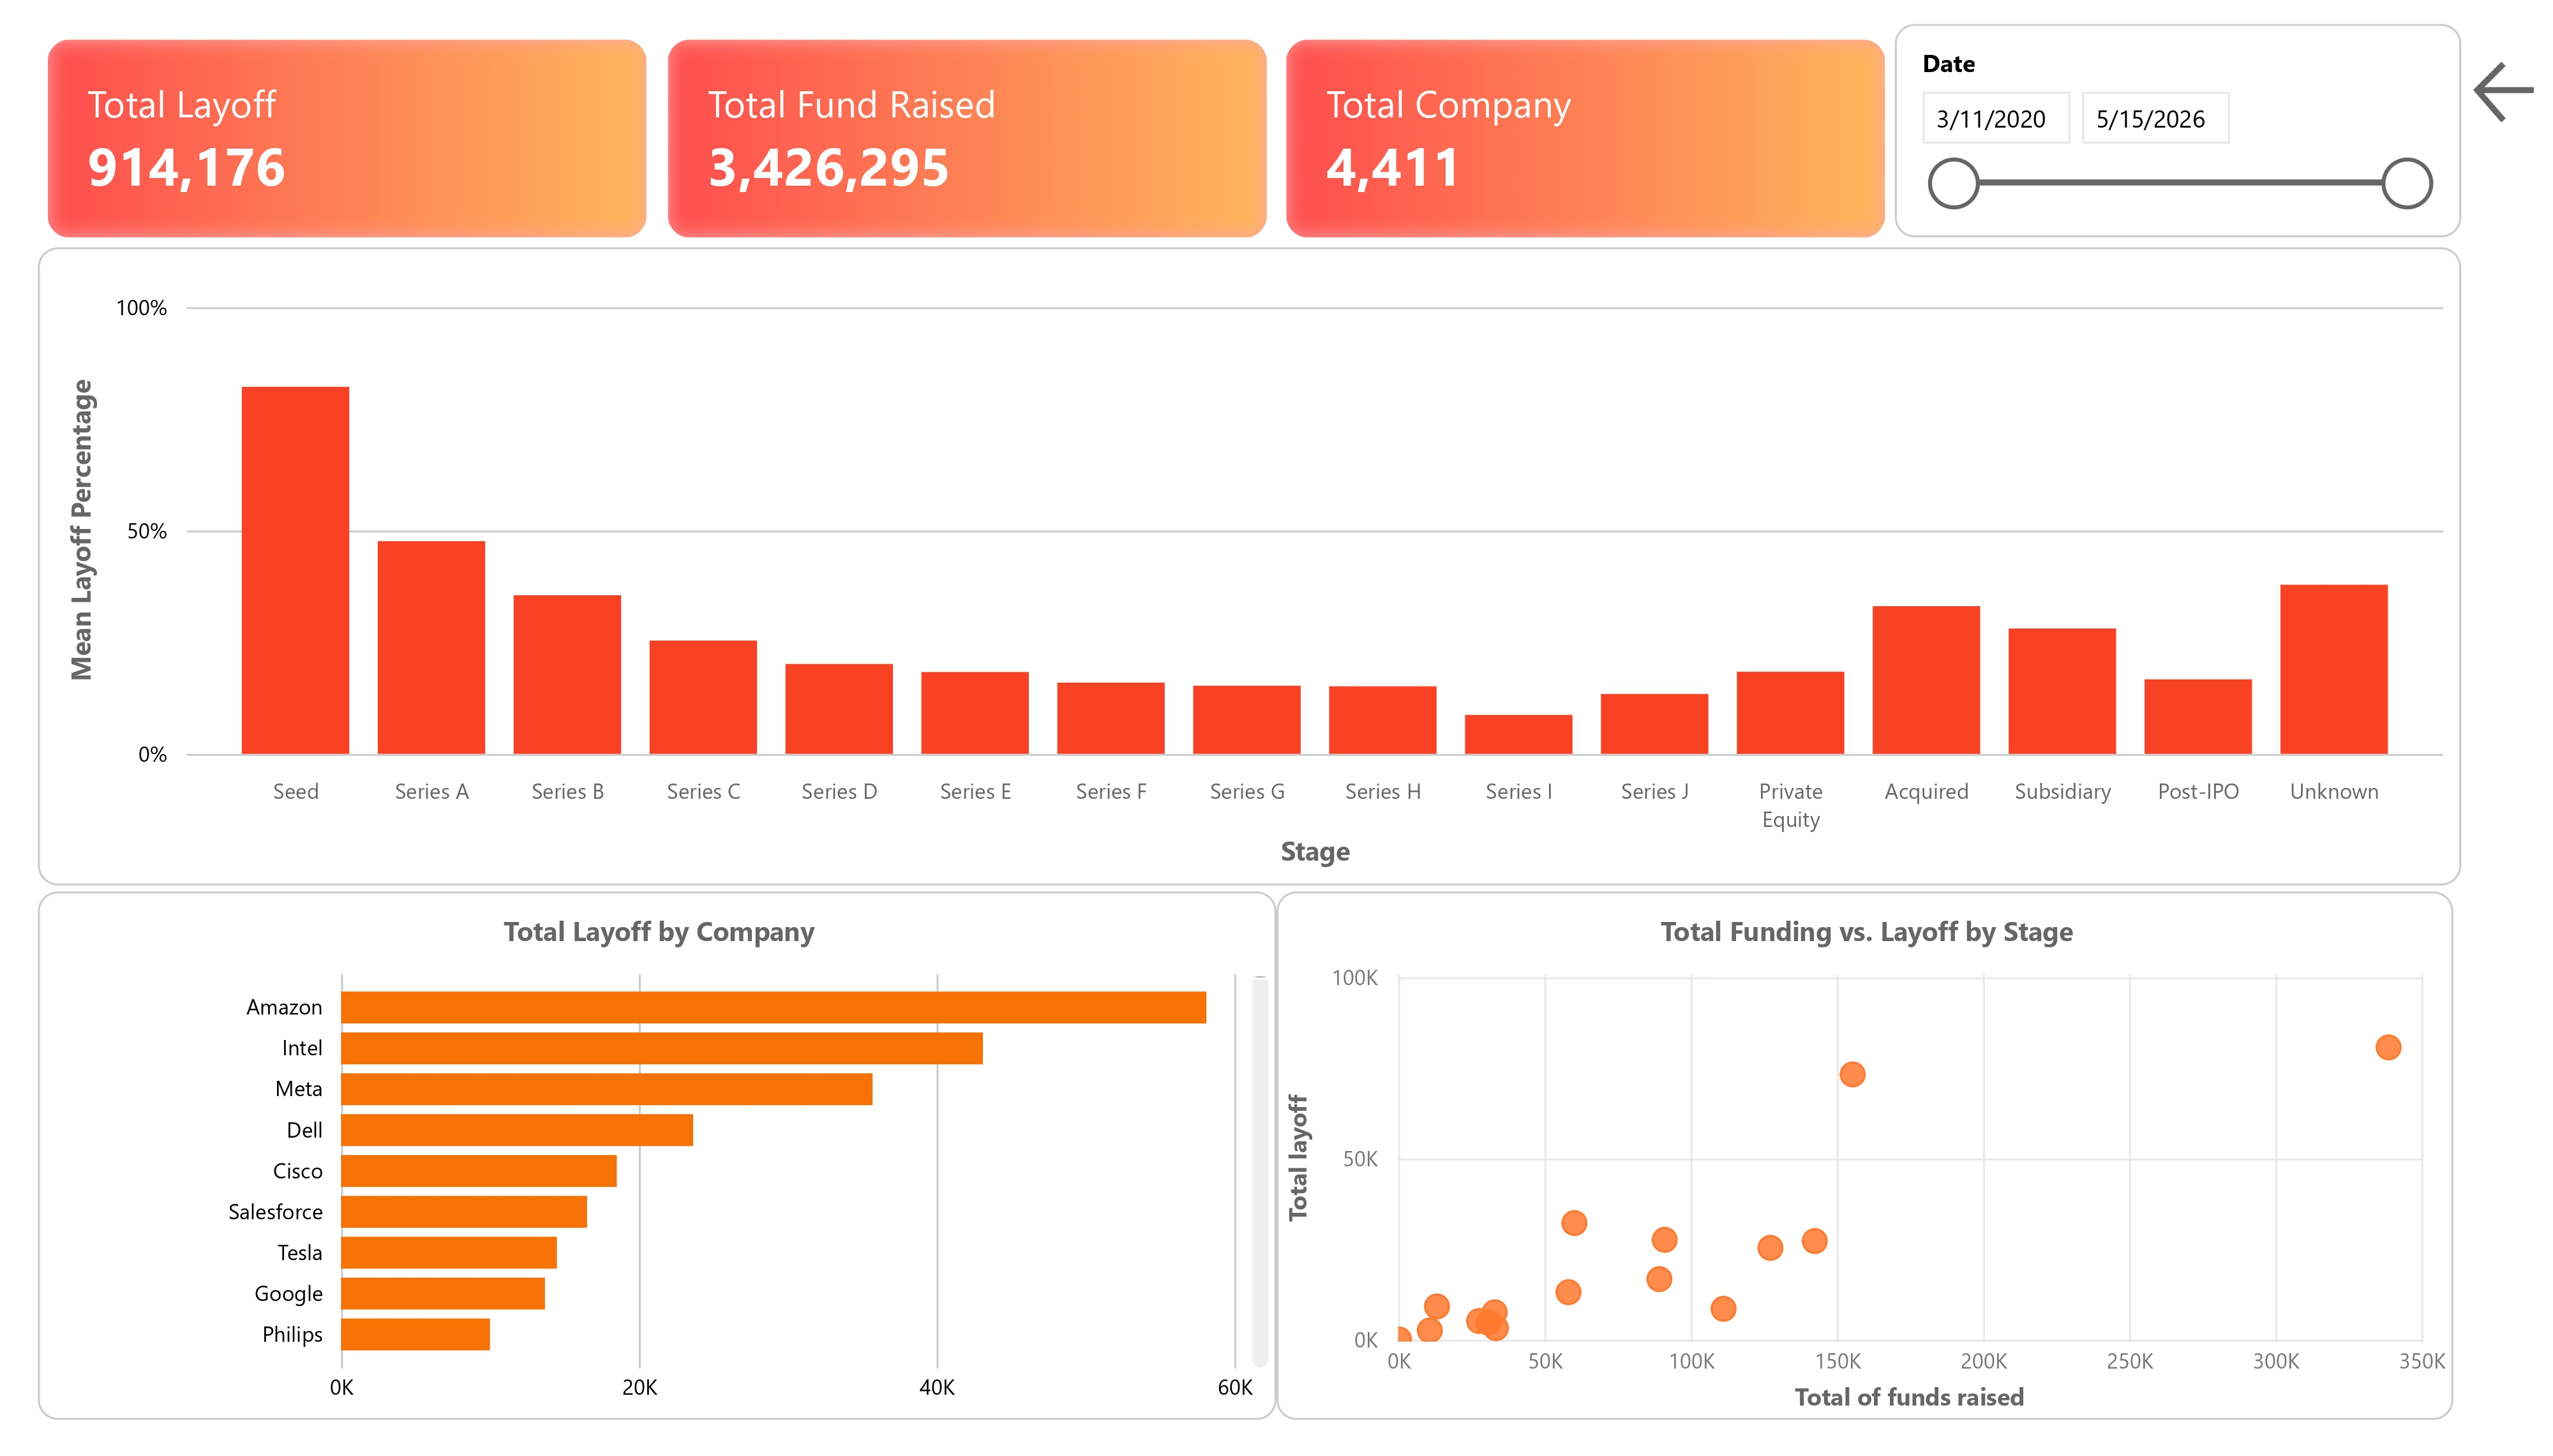

What the dashboard file says about the page in this screenshot:
{"tool":"powerbi","page":{"name":"Page 2","canvas":[1280,720],"ordinal":1},"visuals":[{"type":"lineStackedColumnComboChart","title":"Mean layoff percentage by Funding Stage","fields":{"Y":["Avg(layoffs.percentage_laid_off)"],"Category":["layoffs.stage"]},"box":[17.8,153.3,1045,315.6],"z":0},{"type":"cardVisual","fields":{"Data":["layoffs.Total Company"]},"box":[638,45,314,108],"z":1000},{"type":"cardVisual","fields":{"Data":["layoffs.Total Layoff"]},"box":[18,45,314,108],"z":2000},{"type":"cardVisual","fields":{"Data":["layoffs.Total Fund Raised"]},"box":[326,45,314,108],"z":3000},{"type":"clusteredBarChart","title":"Total Layoff by Company","fields":{"Y":["layoffs.Total Layoff"],"Category":["layoffs.company"]},"box":[18,477,613,242],"z":4000},{"type":"scatterChart","title":"Total Funding vs. Layoff by Stage (Bubble size = Total Companies)","fields":{"X":["Sum(layoffs.funds_raised)"],"Y":["Sum(layoffs.total_laid_off)"],"Category":["layoffs.stage"],"Size":["layoffs.Total Company"],"Series":["StageColors.StageGroup"]},"box":[637.9,476.3,597.5,241.3],"z":5000},{"type":"actionButton","box":[1224.7,8.5,43.6,40.4],"z":6000},{"type":"slicer","title":"Date","fields":{"Values":["layoffs.date"]},"box":[951,49,284,100],"z":7000},{"type":"textbox","box":[392.3,4.3,467.8,48.9],"z":8000},{"type":"group","id":"g1","title":"Group 1","box":[1066.7,155,168.9,76],"z":9000},{"type":"shape","box":[1066.7,155,168.9,76],"z":9000,"group":"g1"},{"type":"shape","box":[1080.9,178.3,20,20.3],"z":10000,"group":"g1"},{"type":"group","id":"g2","title":"Group 2","box":[1066.4,234,168.9,76],"z":10000},{"type":"textbox","box":[1105.6,163.6,101.1,35.3],"z":11000,"group":"g1"},{"type":"group","id":"g3","title":"Group 3","box":[1069.1,313,168.9,76],"z":11000},{"type":"textbox","box":[1105.6,193.5,100,33.2],"z":12000,"group":"g1"},{"type":"group","id":"g4","title":"Group 4","box":[1069.1,393,168.9,77],"z":12000},{"type":"shape","box":[1066.4,234,168.9,76],"z":13000,"group":"g2"},{"type":"shape","box":[1082,261.8,20,20.3],"z":14000,"group":"g2"},{"type":"textbox","box":[1100,247.1,122.2,35.3],"z":15000,"group":"g2"},{"type":"textbox","box":[1105.5,271.7,100,33.2],"z":16000,"group":"g2"},{"type":"shape","box":[1069.1,313,168.9,76],"z":17000,"group":"g3"},{"type":"shape","box":[1084.7,340.8,20,20.3],"z":18000,"group":"g3"},{"type":"textbox","box":[1093.3,325.4,120,35.3],"z":19000,"group":"g3"},{"type":"textbox","box":[1105.6,353,100,33.3],"z":20000,"group":"g3"},{"type":"shape","box":[1069.1,393,168.9,76],"z":21000,"group":"g4"},{"type":"shape","box":[1084.7,420.8,20,20.3],"z":22000,"group":"g4"},{"type":"textbox","box":[1105.6,397.4,117.8,35.6],"z":23000,"group":"g4"},{"type":"textbox","box":[1111.2,420,100,50],"z":24000,"group":"g4"}]}

Visuals, with their boxes in screenshot pixels (x1, y1, x2, y2), scaled from the page's 1280x720 canvas onto the 2553x1456 screenshot:
"Mean layoff percentage by Funding Stage" lineStackedColumnComboChart: bbox=(36, 310, 2120, 948)
cardVisual - layoffs.Total Company: bbox=(1273, 91, 1899, 309)
cardVisual - layoffs.Total Layoff: bbox=(36, 91, 663, 309)
cardVisual - layoffs.Total Fund Raised: bbox=(650, 91, 1276, 309)
"Total Layoff by Company" clusteredBarChart: bbox=(36, 965, 1259, 1454)
"Total Funding vs. Layoff by Stage (Bubble size = Total Companies)" scatterChart: bbox=(1272, 963, 2464, 1451)
actionButton: bbox=(2443, 17, 2529, 99)
"Date" slicer: bbox=(1897, 99, 2463, 301)
textbox: bbox=(782, 9, 1716, 108)
"Group 1" group: bbox=(2127, 313, 2464, 467)
shape: bbox=(2127, 313, 2464, 467)
shape: bbox=(2156, 360, 2196, 401)
"Group 2" group: bbox=(2127, 473, 2464, 627)
textbox: bbox=(2205, 331, 2407, 402)
"Group 3" group: bbox=(2132, 633, 2469, 787)
textbox: bbox=(2205, 391, 2404, 459)
"Group 4" group: bbox=(2132, 795, 2469, 951)
shape: bbox=(2127, 473, 2464, 627)
shape: bbox=(2158, 530, 2198, 570)
textbox: bbox=(2194, 500, 2437, 571)
textbox: bbox=(2205, 549, 2404, 616)
shape: bbox=(2132, 633, 2469, 787)
shape: bbox=(2164, 689, 2203, 730)
textbox: bbox=(2181, 658, 2420, 729)
textbox: bbox=(2205, 714, 2404, 781)
shape: bbox=(2132, 795, 2469, 948)
shape: bbox=(2164, 851, 2203, 892)
textbox: bbox=(2205, 804, 2440, 875)
textbox: bbox=(2216, 849, 2416, 951)
